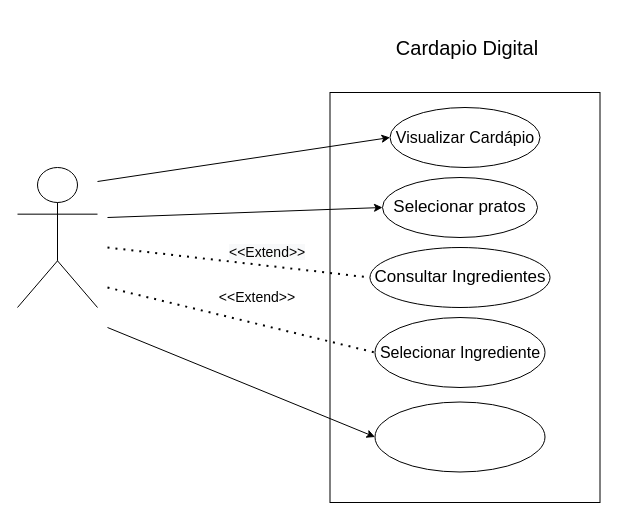
This 618x520 diagram has some shape labels left out. Here are the shapes that lost their labels. From the top down, the box of each, then its label:
(16, 166, 98, 308): CLIENTE
(374, 401, 545, 472): Total de Pratos
